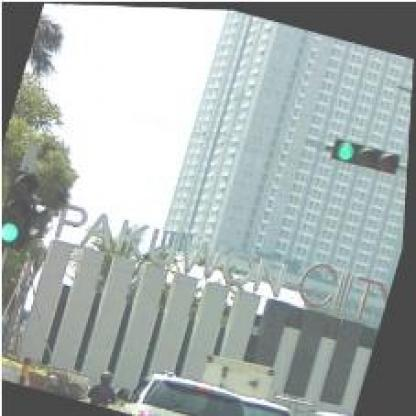green: (1, 169, 39, 249), (331, 134, 402, 170)
